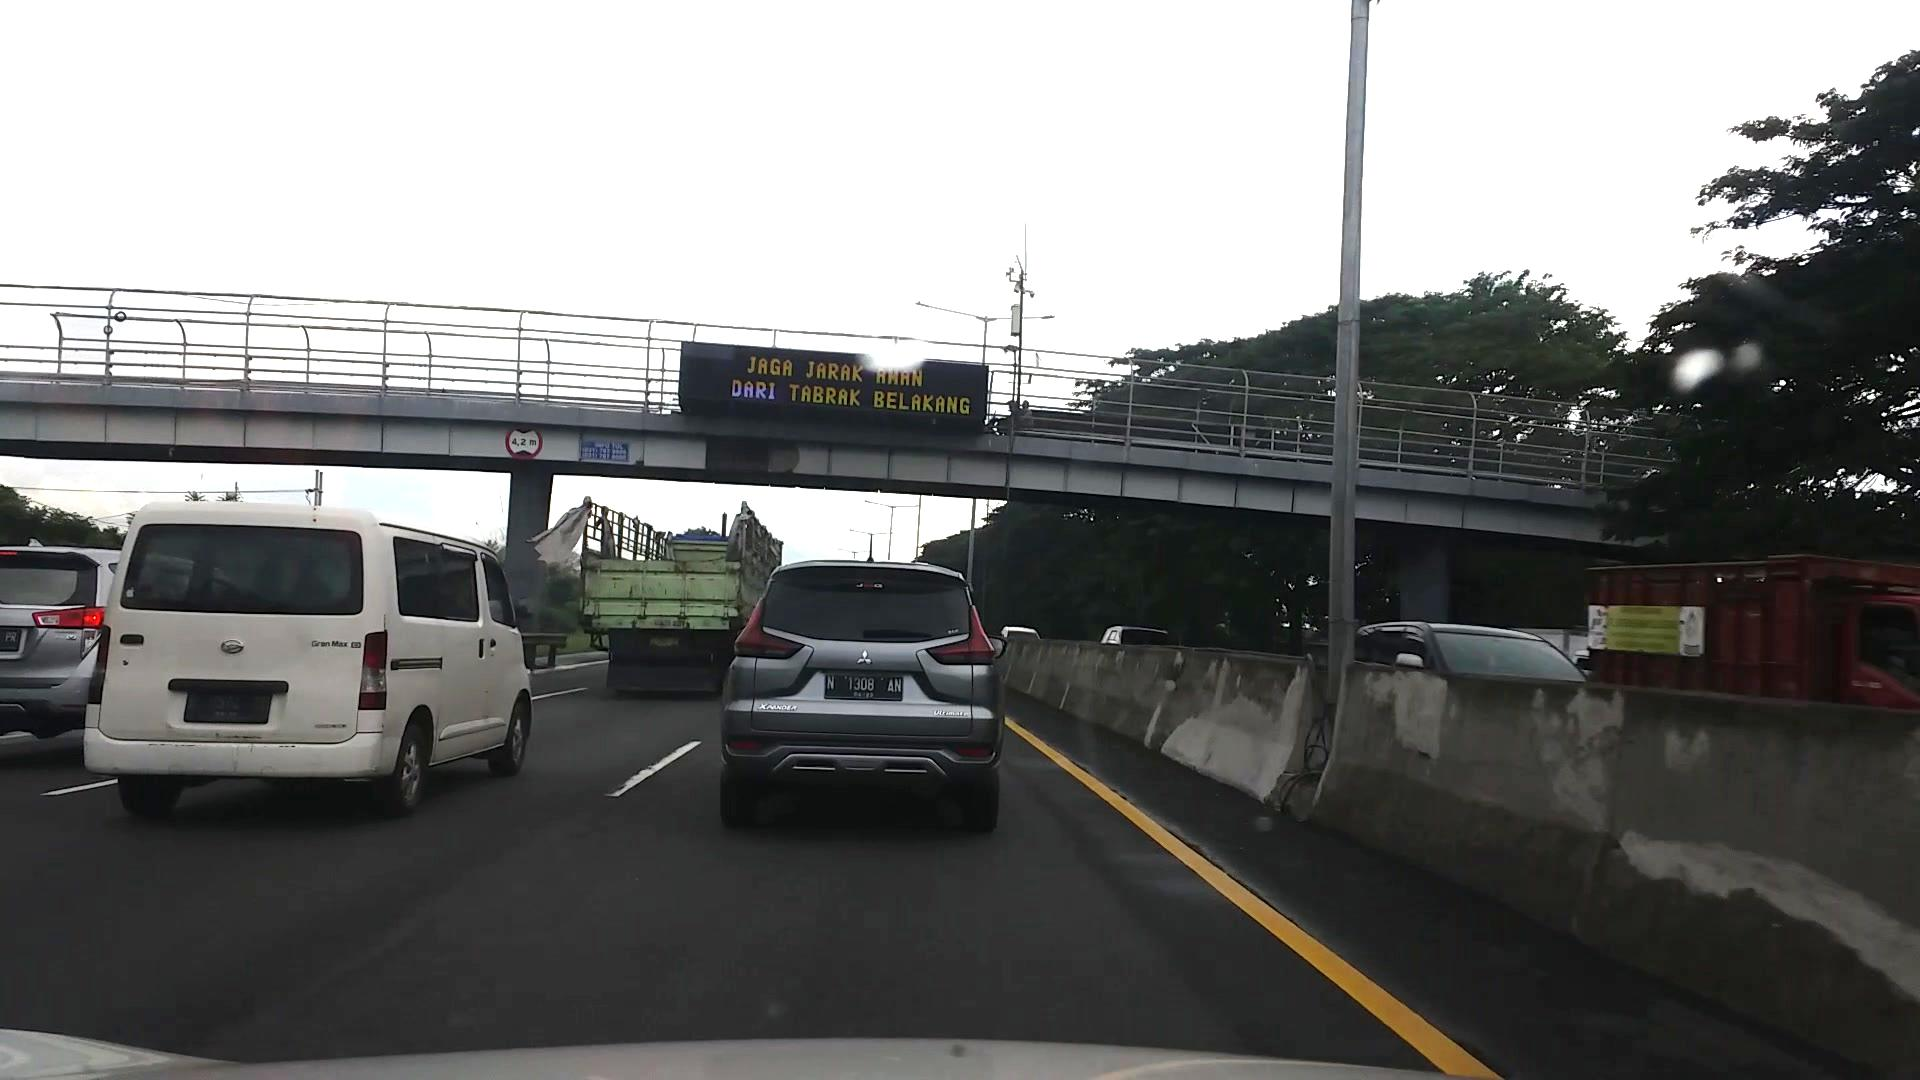plate_positive: (825, 673, 902, 700)
